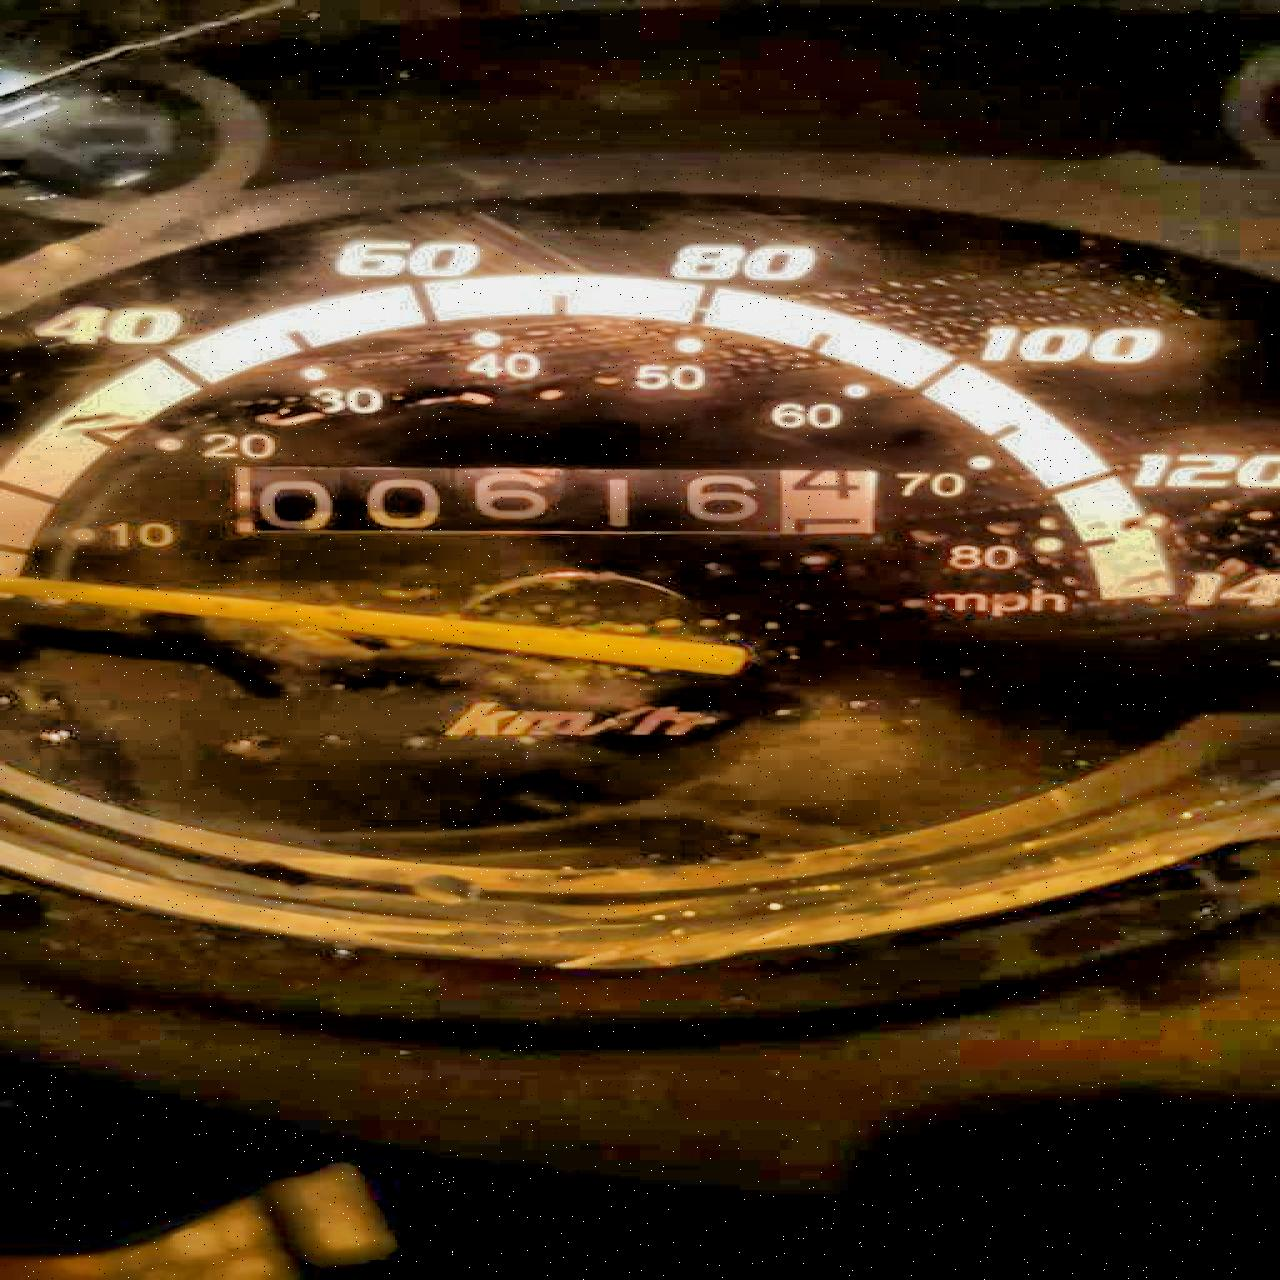0: (256, 476, 335, 530), (362, 476, 440, 530)
1: (602, 477, 629, 527)
4: (790, 459, 860, 499)
6: (470, 471, 550, 520), (682, 471, 757, 523)
odometer: (223, 459, 883, 539)
